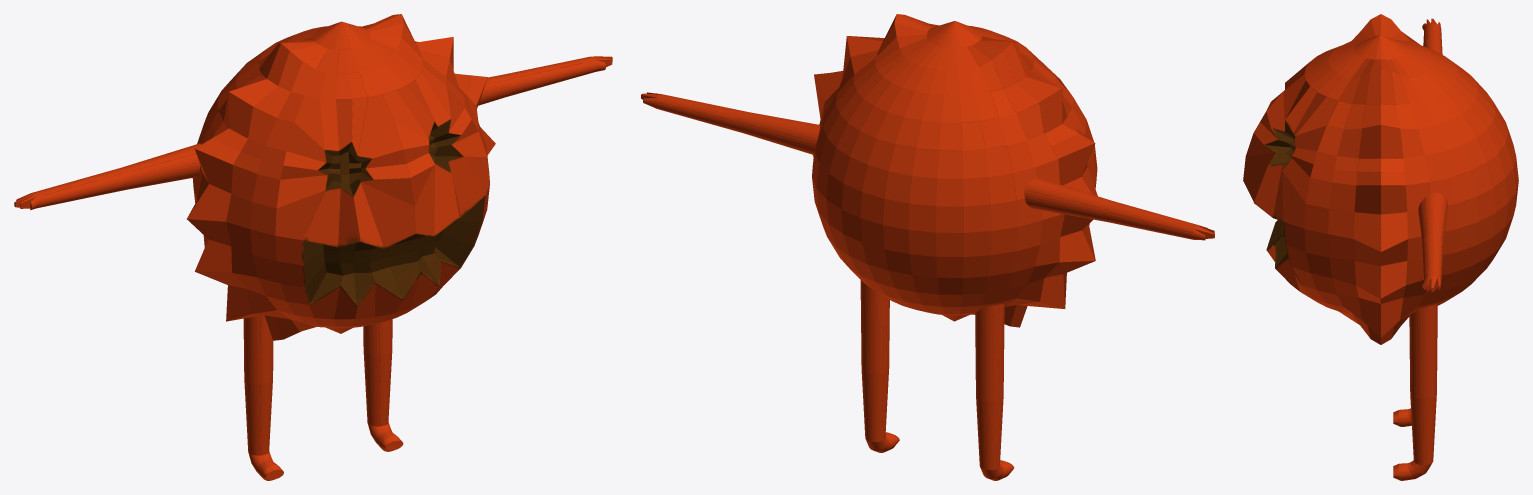
Rendered from ImmortalMaizeWalker.fbx_Collection.fbx.
The picture shows the model from 3 angles, left to right: view 1: azimuth 30°, elevation 25°; view 2: azimuth 150°, elevation 25°; view 3: azimuth 270°, elevation 25°; orthographic projection. The views are drawn at different scales.
Parts seen in each view (by area): view 1: Sphere; view 2: Sphere; view 3: Sphere.
Part boxes in pixels (x1,y1,x2,y2): Sphere: (14,14,612,480); Sphere: (641,14,1214,480); Sphere: (1243,14,1518,480).
Size of the model in its own units: 462 by 335 by 200.
Materials: 1 (1 with a texture image).
